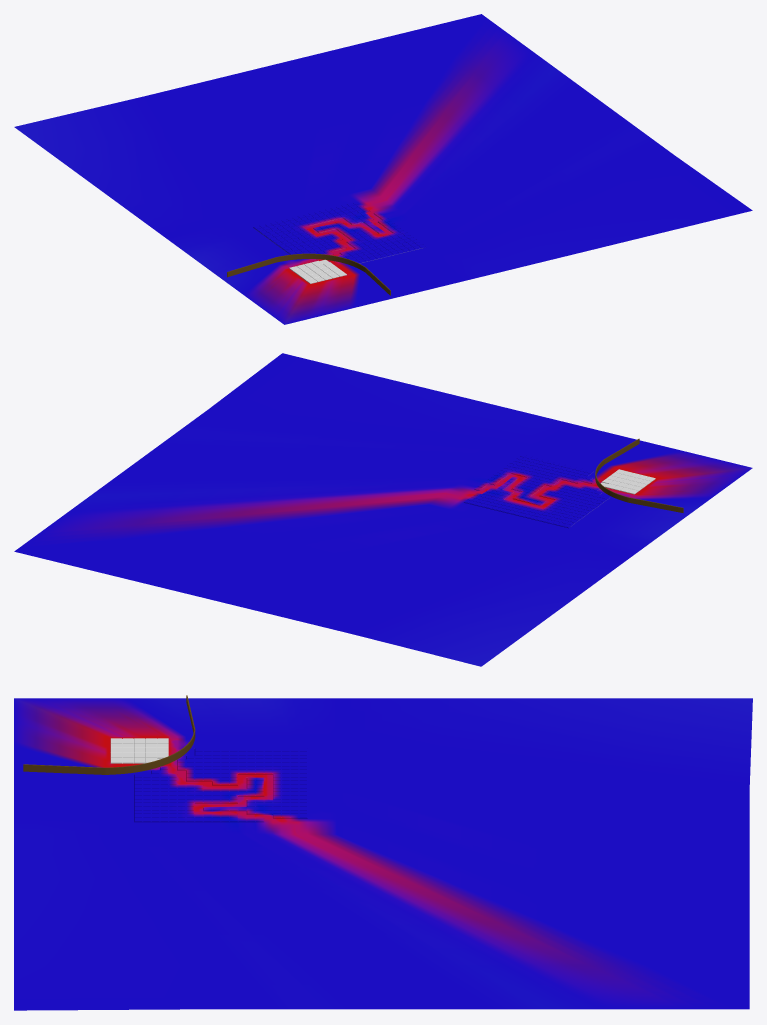
Rendered from AreaDesign.fbx.
3 renders of one model, top to bottom at view 1: azimuth 30°, elevation 25°; view 2: azimuth 150°, elevation 25°; view 3: azimuth 270°, elevation 25°, orthographic. The views are drawn at different scales.
Parts seen in each view (by area): view 1: Plane.002, Cylinder, Plane.001; view 2: Plane.002, Cylinder, Plane.001; view 3: Plane.002, Cylinder, Plane.001.
Boxes of the visible parts, x1,y1,x2,y2 form: Plane.002: (14, 14, 752, 324); Cylinder: (227, 253, 390, 295); Plane.001: (289, 259, 346, 283); Plane.002: (14, 353, 752, 666); Cylinder: (595, 438, 683, 512); Plane.001: (601, 469, 655, 494); Plane.002: (14, 698, 752, 1010); Cylinder: (23, 695, 195, 774); Plane.001: (110, 738, 168, 763).
Bounding box in the file's own units: 127644 × 1295 × 127644.
